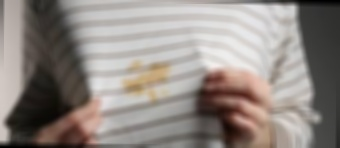mustard: (131, 66, 175, 83), (127, 87, 157, 103), (159, 87, 173, 98), (131, 59, 144, 70), (121, 75, 132, 88)
